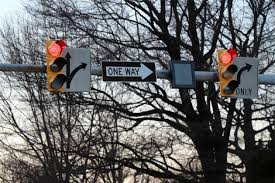oneWay: (100, 58, 158, 85)
